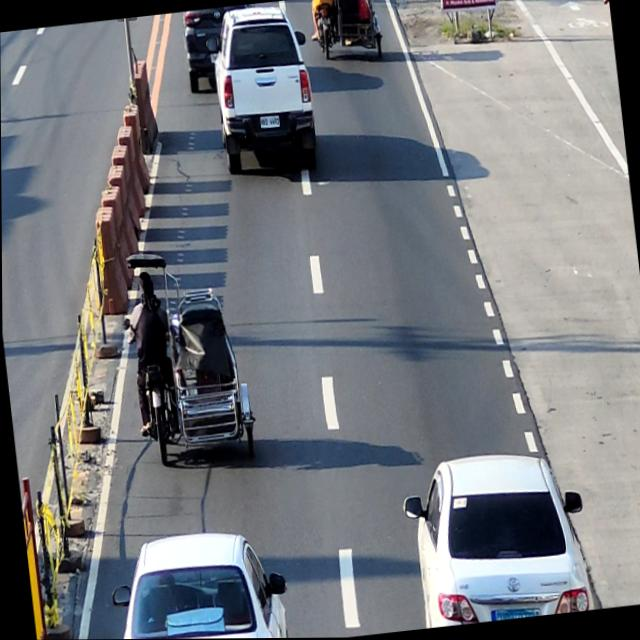Car: (398, 442, 593, 630), (106, 522, 292, 639), (208, 3, 320, 178), (182, 4, 263, 94)
License-Plate: (494, 607, 533, 621), (259, 114, 280, 130), (210, 53, 219, 63), (320, 17, 330, 25)
Tricycle: (115, 242, 259, 467), (314, 0, 383, 59)
